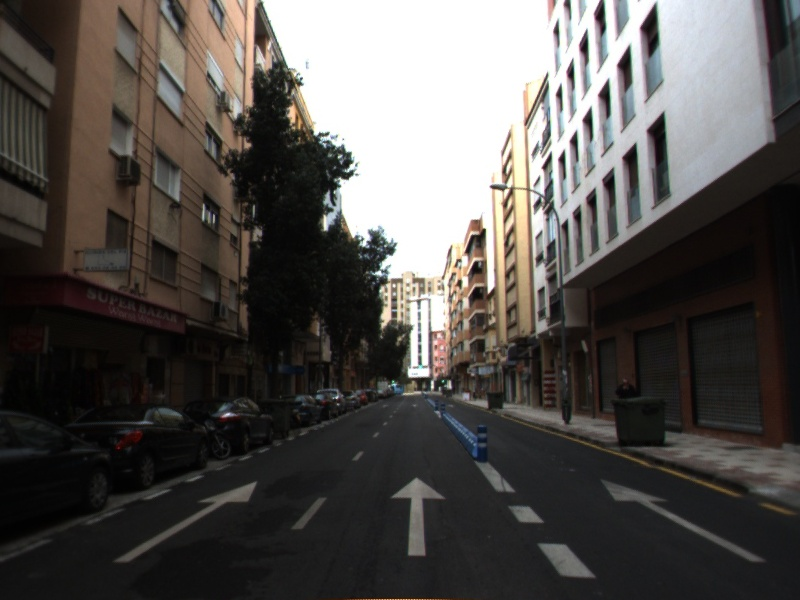STRAIGHT: (599, 477, 768, 563), (111, 479, 259, 565), (388, 476, 448, 557)
